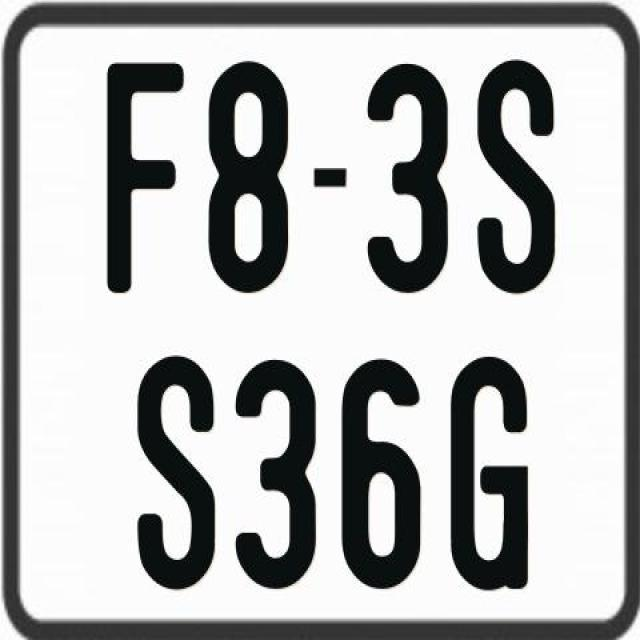3: (365, 59, 452, 298), (232, 355, 319, 587)
6: (338, 358, 422, 592)
8: (206, 56, 292, 291)
F: (105, 61, 183, 292)
G: (449, 354, 532, 588)
S: (137, 352, 215, 594), (477, 61, 556, 296)
